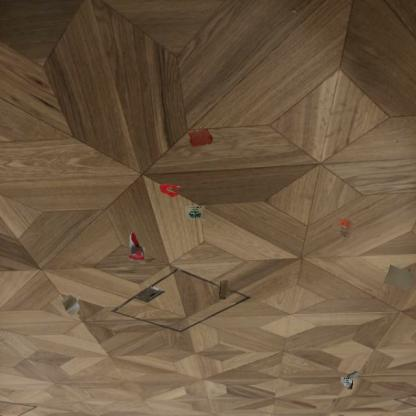dirty: (382, 263, 416, 292), (331, 213, 357, 242), (59, 292, 82, 320), (126, 230, 146, 262), (340, 368, 362, 392), (217, 278, 236, 302), (184, 204, 205, 220)
liquid: (187, 126, 215, 148), (158, 183, 182, 198)
